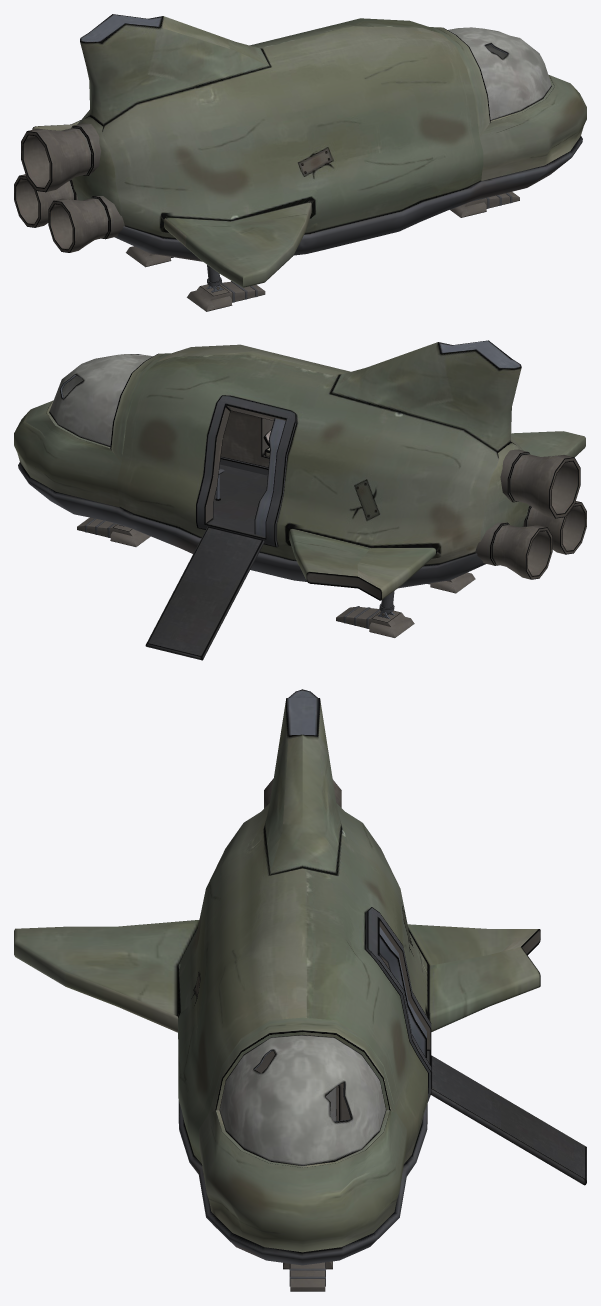
The model's file is residence_03.fbx.
3 views of the same model, one above another, from view 1: azimuth 30°, elevation 25°; view 2: azimuth 150°, elevation 25°; view 3: azimuth 270°, elevation 25° (orthographic). The views are drawn at different scales.
Visible parts, largest first — view 1: residence_03; view 2: residence_03; view 3: residence_03.
Part boxes in pixels (bbox=[...]): residence_03: bbox=[14, 14, 586, 311]; residence_03: bbox=[14, 340, 586, 660]; residence_03: bbox=[14, 689, 586, 1291].
Bounding box in the file's own units: 1543 × 746 × 1110.
Materials: 1 (1 with a texture image).
